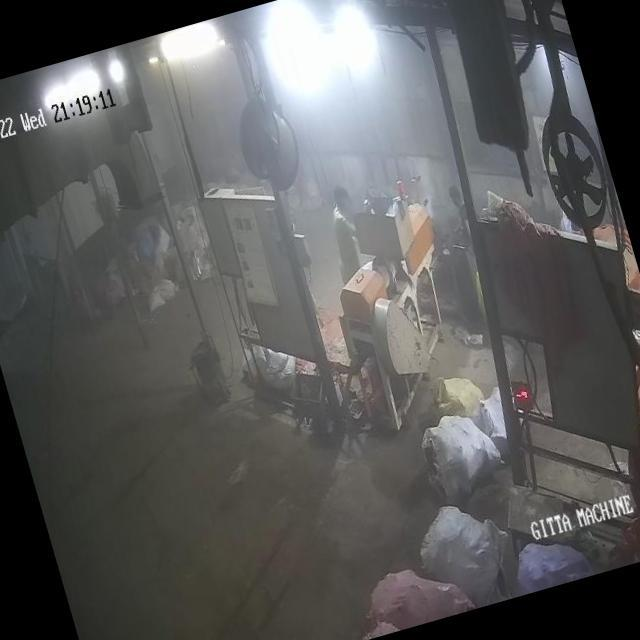person: (317, 184, 375, 293), (446, 176, 481, 248)
